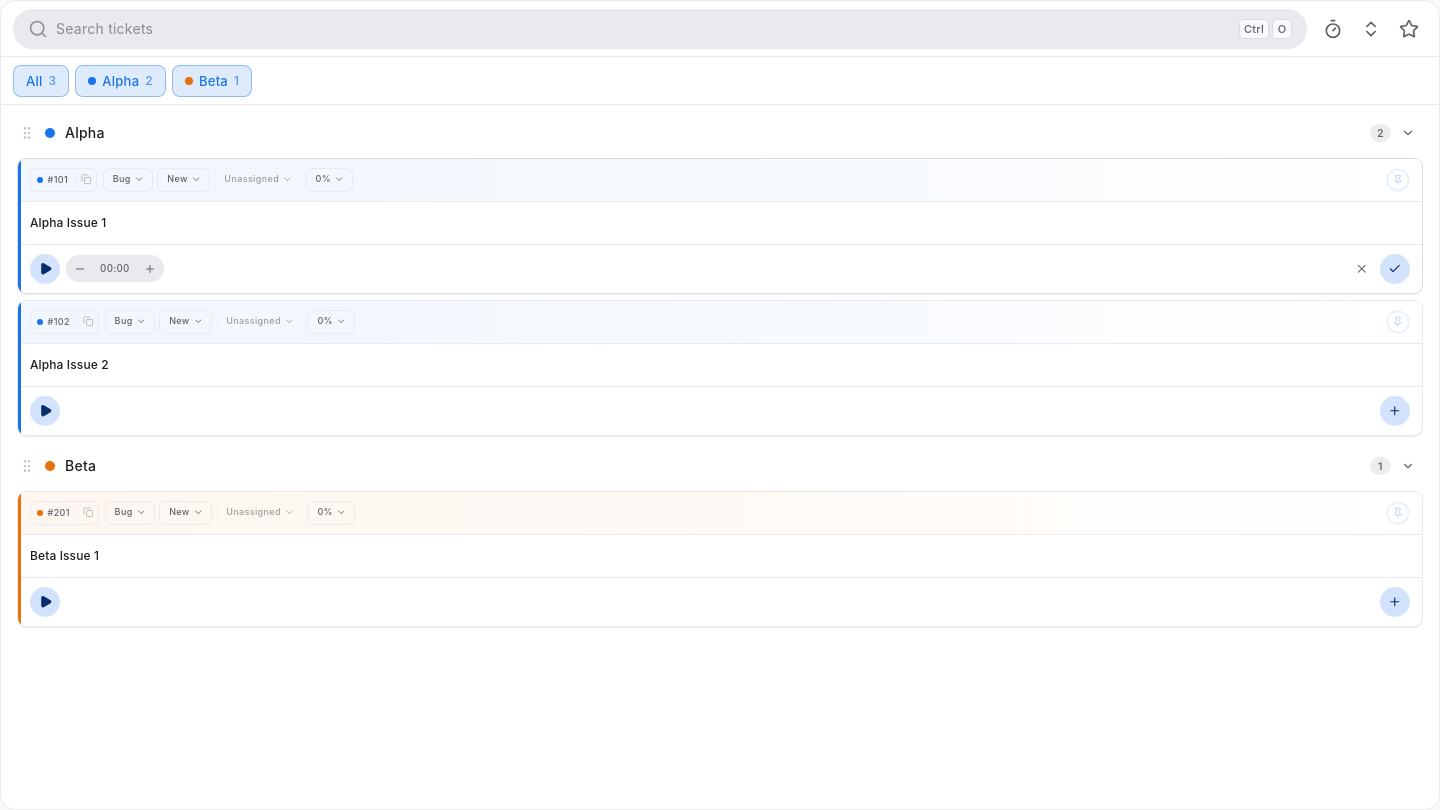
Test: TicketList › tracked-only filter shows only issues with timers
The width and height of the screenshot is (1440, 810).
Step 1. Click the button titled "Tracked tickets only" → [1333, 29], box [1315,11,1351,47]
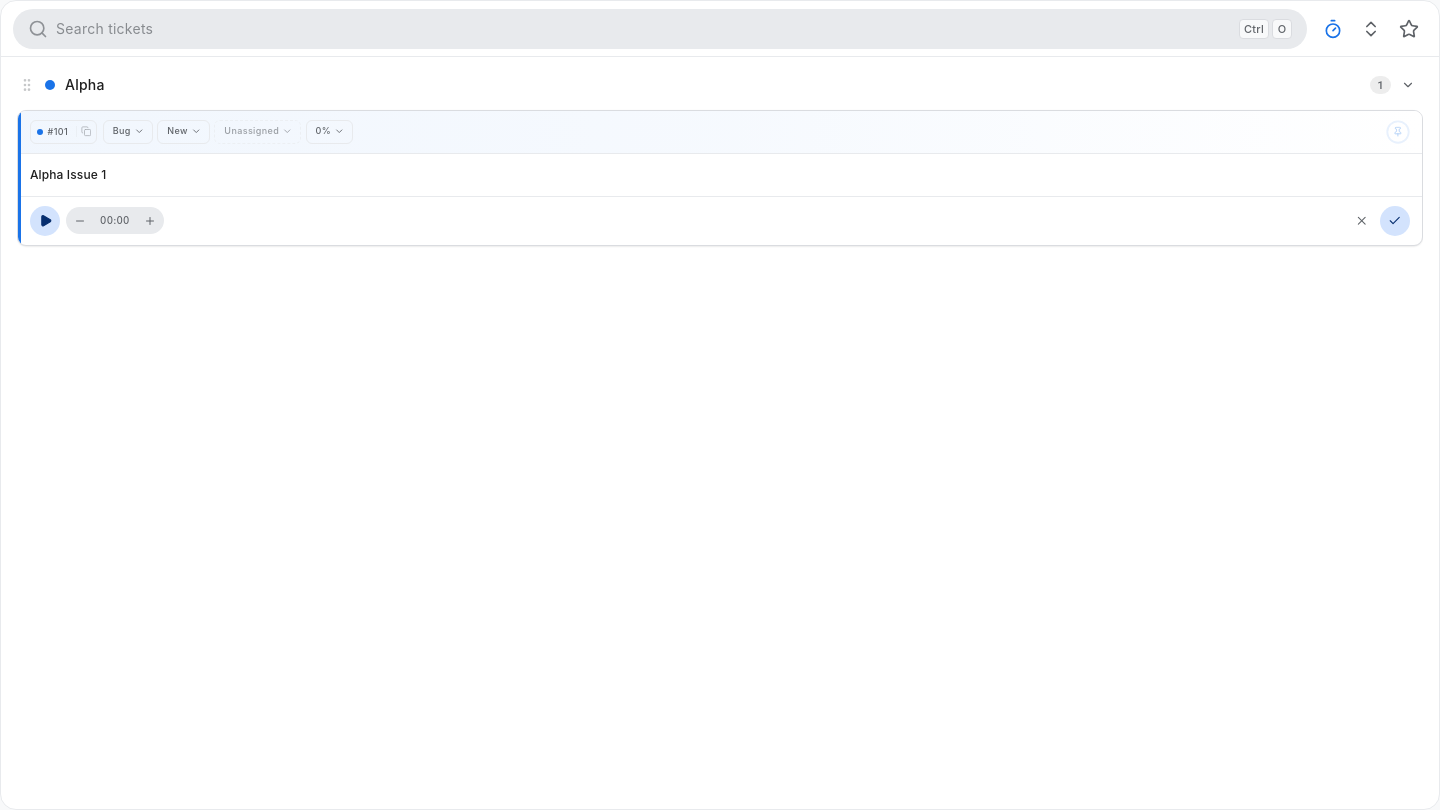
Expected: the text "Alpha Issue 1" is shown, [30,166,106,184]
Expected: the text "Alpha Issue 2" is gone
Expected: the text "Beta Issue 1" is gone
